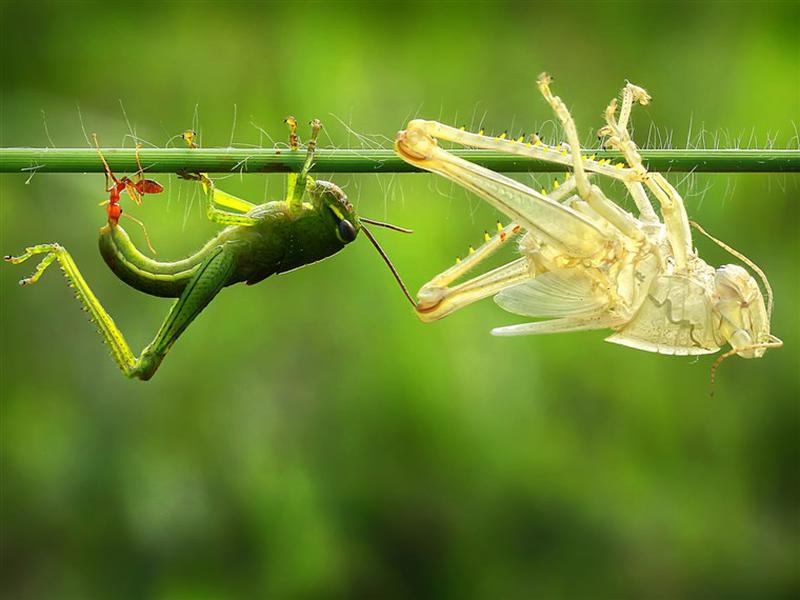Grasshopper: (398, 128, 780, 379), (43, 158, 367, 377)
